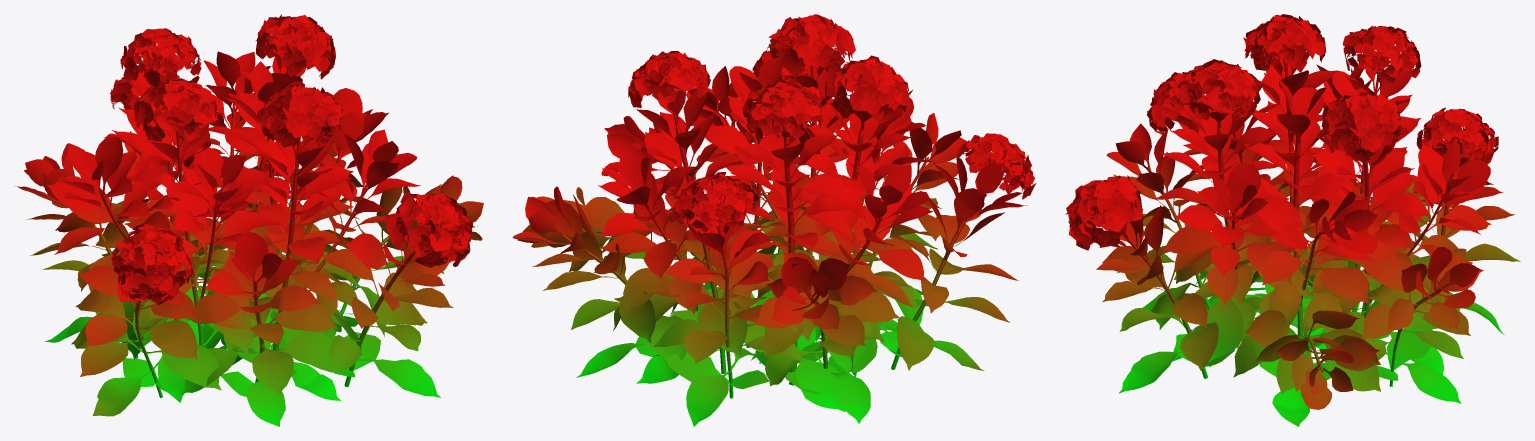
The model's file is Var5_LOD1.fbx.
3 renders of one model, left to right at view 1: azimuth 30°, elevation 25°; view 2: azimuth 150°, elevation 25°; view 3: azimuth 270°, elevation 25°, orthographic. The views are drawn at different scales.
Visible parts, largest first — view 1: _wlv7_Var5_LOD1; view 2: _wlv7_Var5_LOD1; view 3: _wlv7_Var5_LOD1.
Part boxes in pixels (left/top/right/bottom): _wlv7_Var5_LOD1: left=15, top=14, right=483, bottom=426; _wlv7_Var5_LOD1: left=512, top=14, right=1036, bottom=426; _wlv7_Var5_LOD1: left=1065, top=14, right=1520, bottom=426.
Bounding box in the file's own units: 131 × 88.29 × 120.
